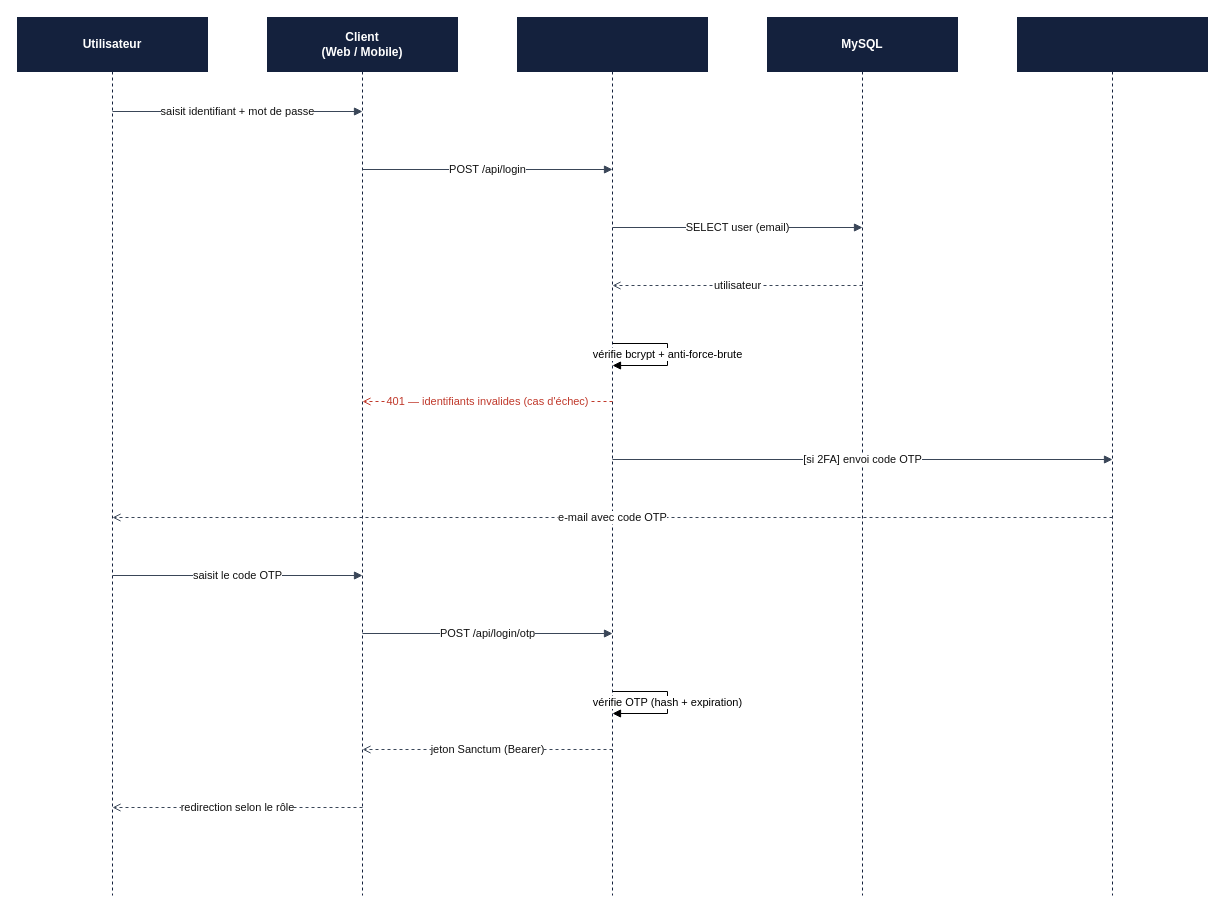
Image size: 1225x913. Some labels were removed from this diagram. The box of each missing label's shape, as (x1, y1, x2, y2) in pixels:
API Laravel: (516, 16, 708, 896)
Service e-mail: (1016, 16, 1208, 896)
